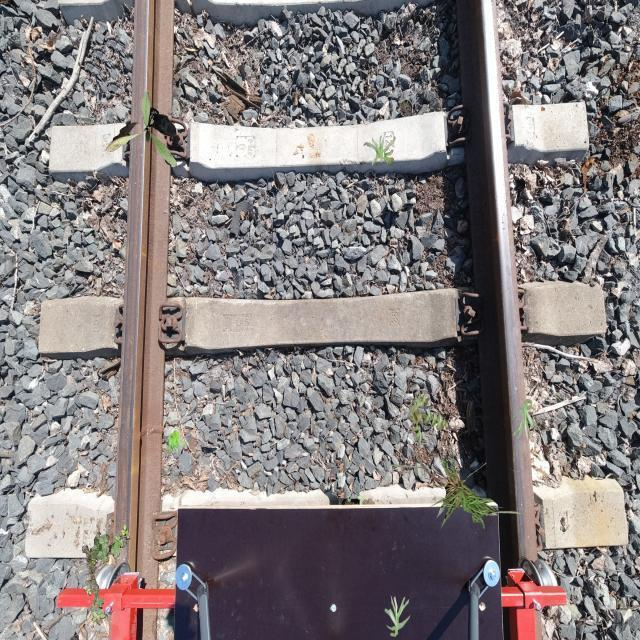Plant: (389, 441, 532, 531), (105, 92, 176, 167), (82, 524, 130, 628), (408, 392, 450, 446), (363, 132, 396, 167), (384, 595, 411, 637), (512, 399, 538, 441), (166, 430, 186, 455)
